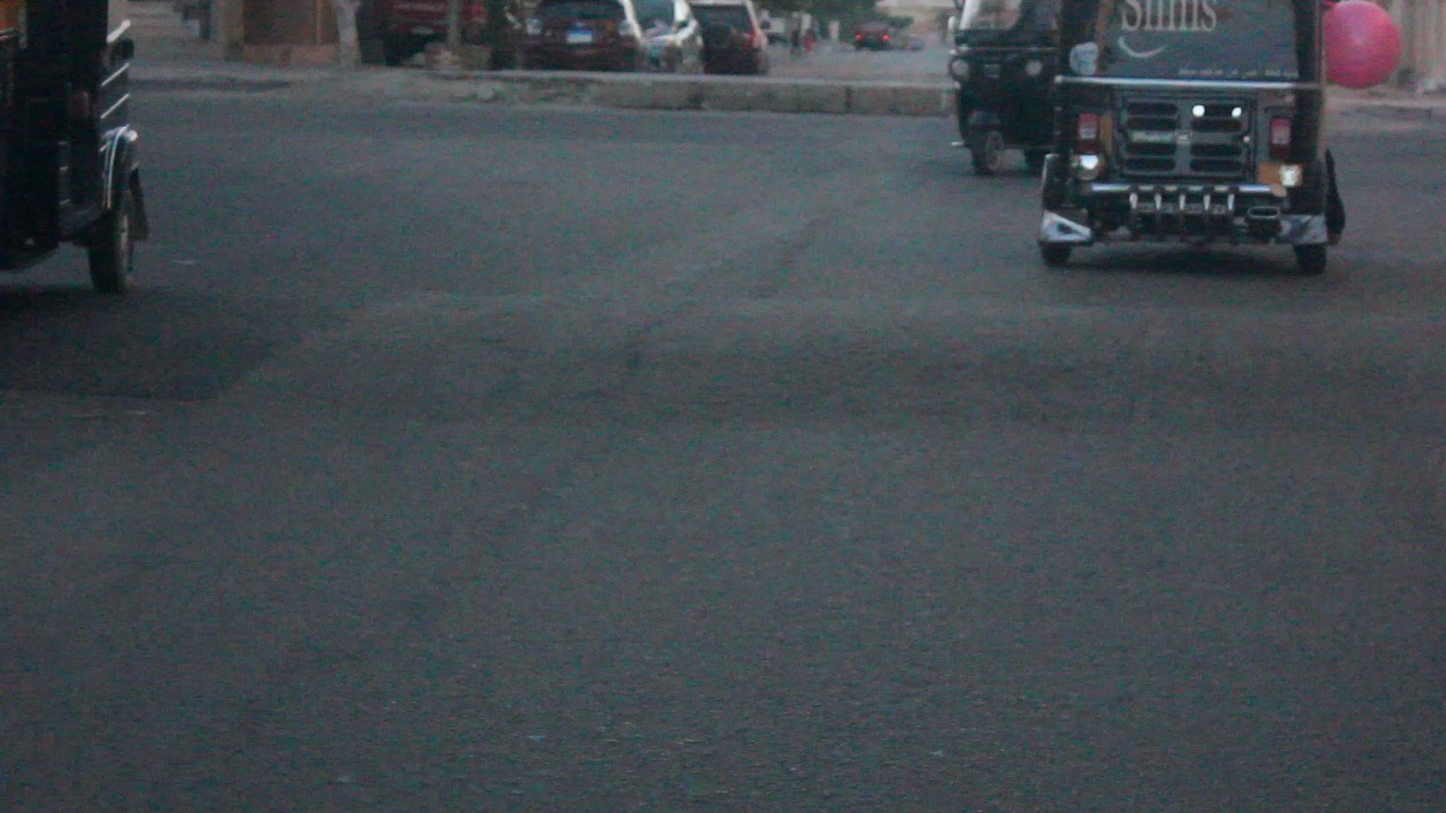Bump: (21, 269, 1446, 397)
